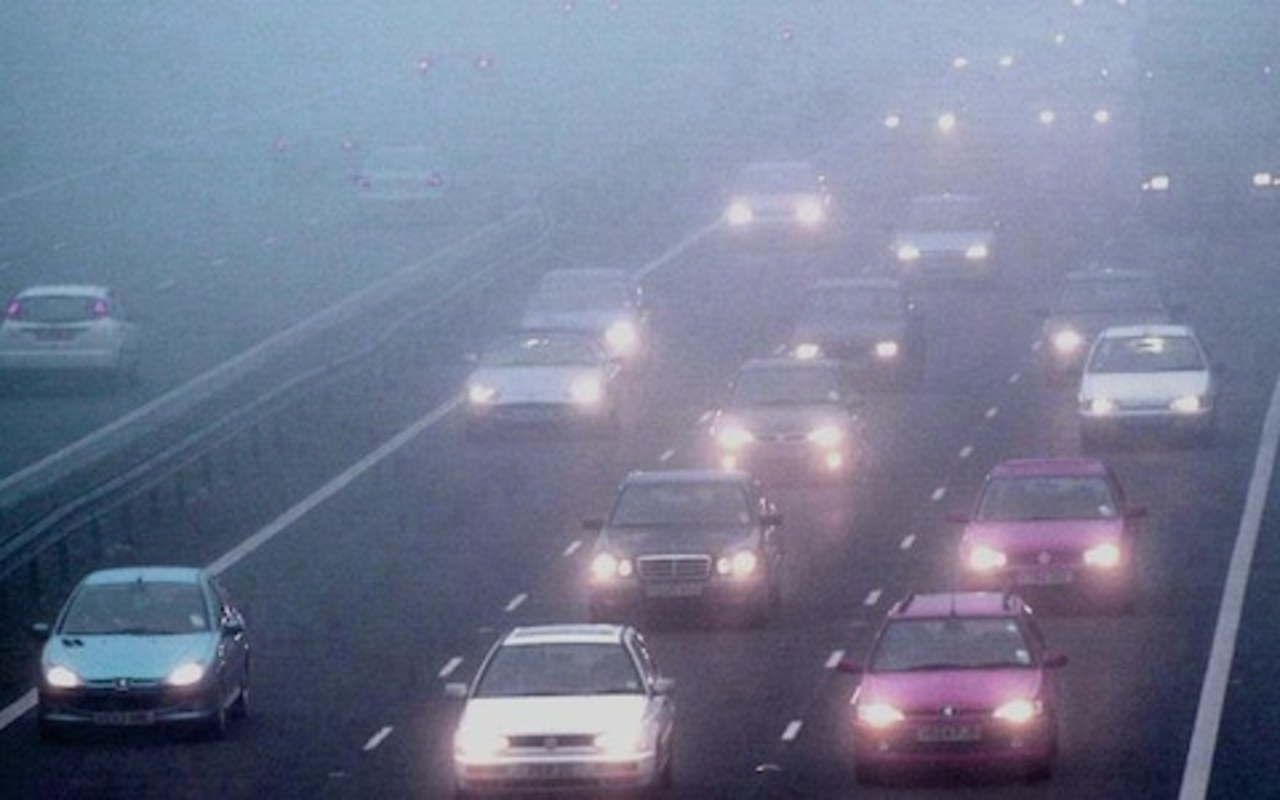car: (814, 594, 1069, 787), (447, 621, 682, 794), (38, 563, 247, 744), (572, 468, 780, 631), (944, 457, 1142, 612), (703, 355, 863, 475), (1075, 324, 1218, 450), (457, 328, 622, 435), (512, 265, 654, 359), (1048, 268, 1169, 371), (1, 285, 133, 375), (797, 272, 913, 372), (890, 189, 1003, 284), (726, 158, 825, 245), (353, 143, 459, 218), (273, 104, 369, 171), (878, 76, 963, 140), (1040, 75, 1115, 141), (952, 23, 1018, 76)
truck: (1133, 21, 1275, 224)
